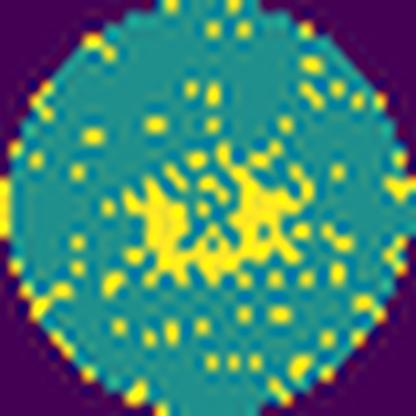Donut: (84, 104, 327, 301)
